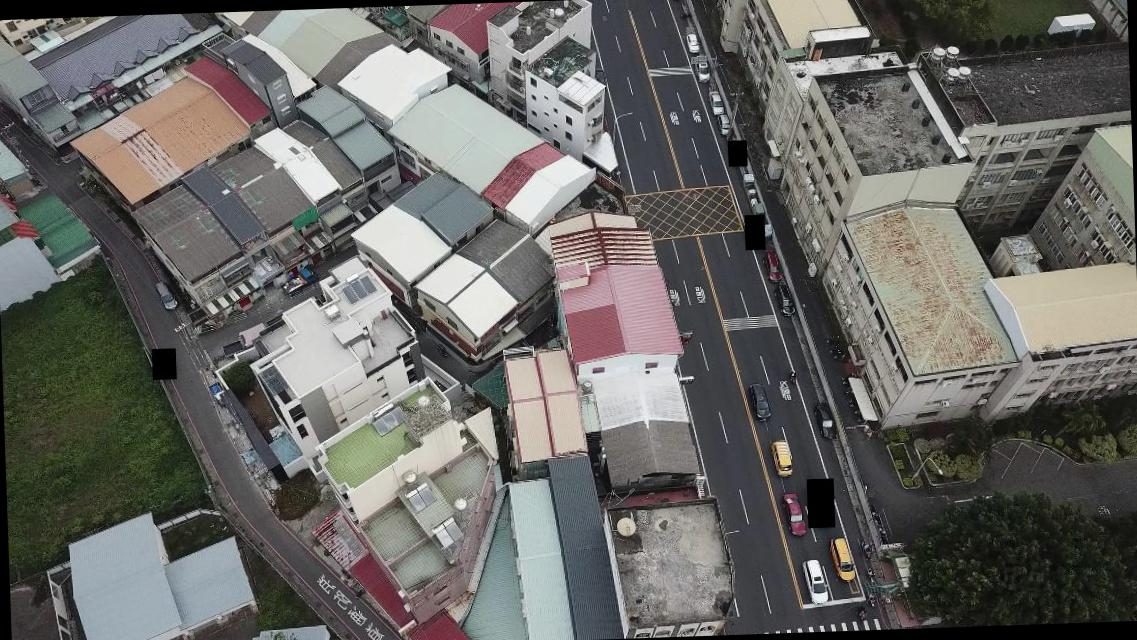vehicle: (802, 557, 829, 608), (830, 536, 857, 585), (782, 492, 807, 538), (813, 400, 838, 440), (748, 383, 772, 423), (769, 439, 792, 479), (154, 280, 179, 312), (774, 283, 796, 318), (763, 250, 782, 284), (707, 89, 724, 118), (717, 112, 732, 138), (686, 32, 700, 54)
